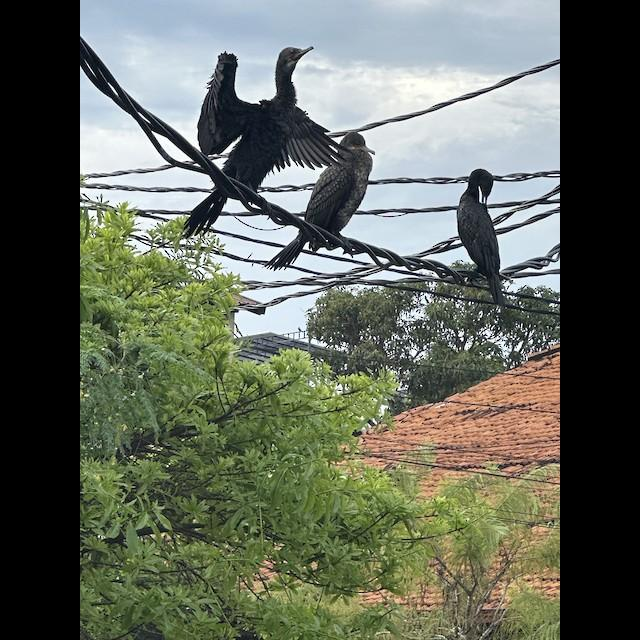cormorant: (196, 39, 314, 237), (454, 165, 532, 302), (320, 124, 378, 266)
